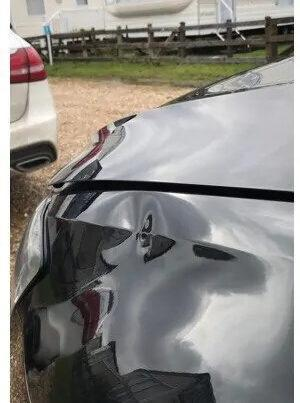dent: (33, 190, 225, 388)
